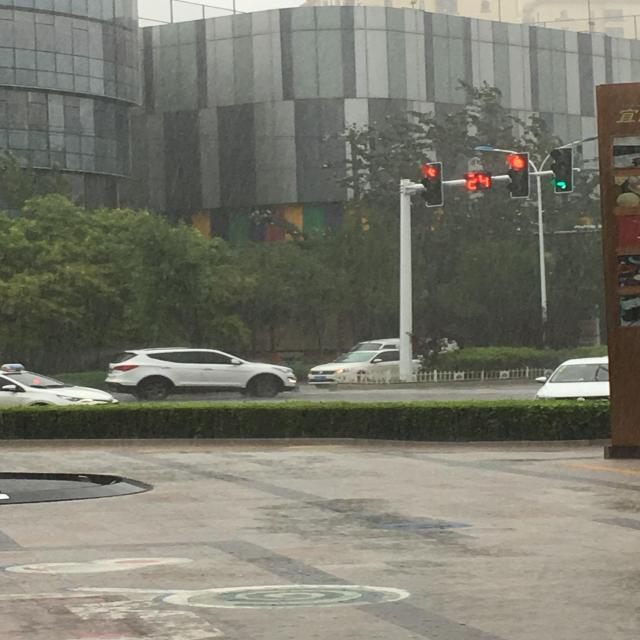car: (107, 347, 300, 396), (0, 362, 120, 409), (308, 350, 422, 388), (532, 357, 610, 400), (348, 337, 458, 354)
